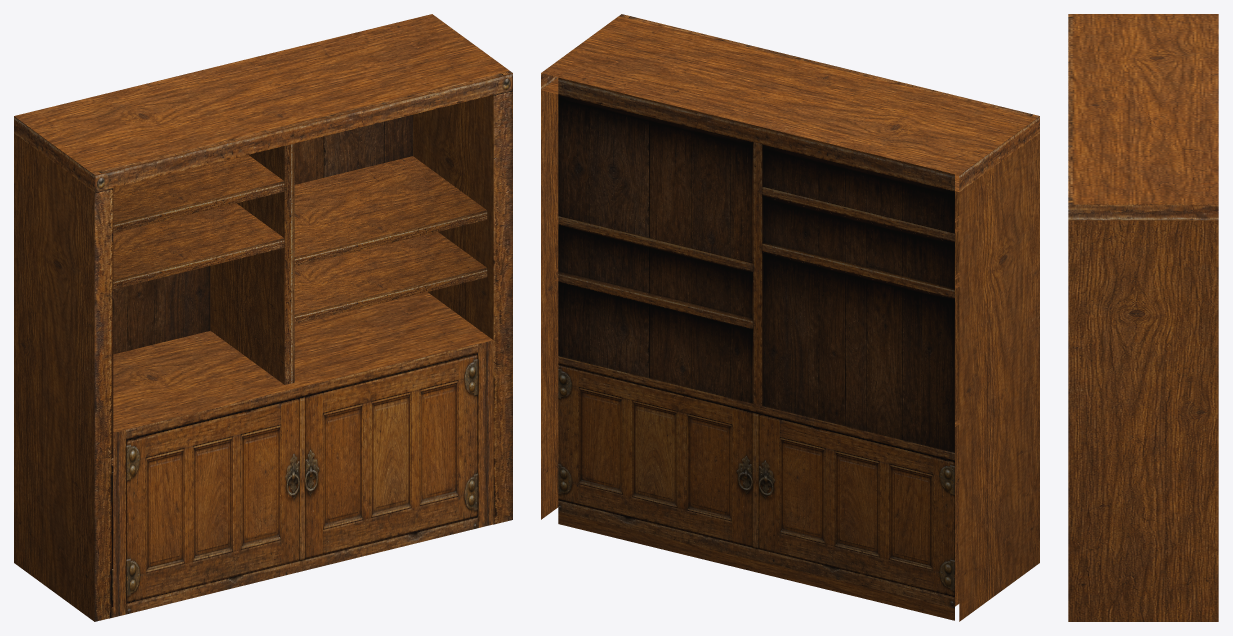
File: mm9_deco_cabinet01.glb
3 views of the same model, side by side, from view 1: azimuth 30°, elevation 25°; view 2: azimuth 150°, elevation 25°; view 3: azimuth 270°, elevation 25° (orthographic). The views are drawn at different scales.
Visible parts, largest first — view 1: Cabinet01; view 2: Cabinet01; view 3: Cabinet01.
Part boxes in pixels (bbox=[...]): Cabinet01: bbox=[14, 14, 512, 621]; Cabinet01: bbox=[541, 14, 1039, 621]; Cabinet01: bbox=[1068, 14, 1218, 621].
Bounding box in the file's own units: 2.91 × 2.97 × 0.9707.
1 material, 1 textured.
